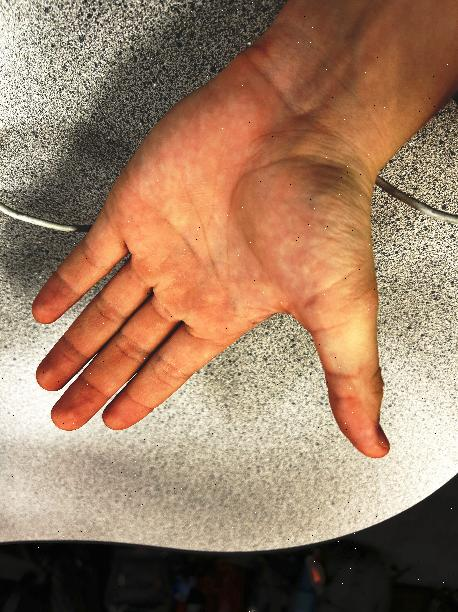Paper: (6, 70, 435, 515)
